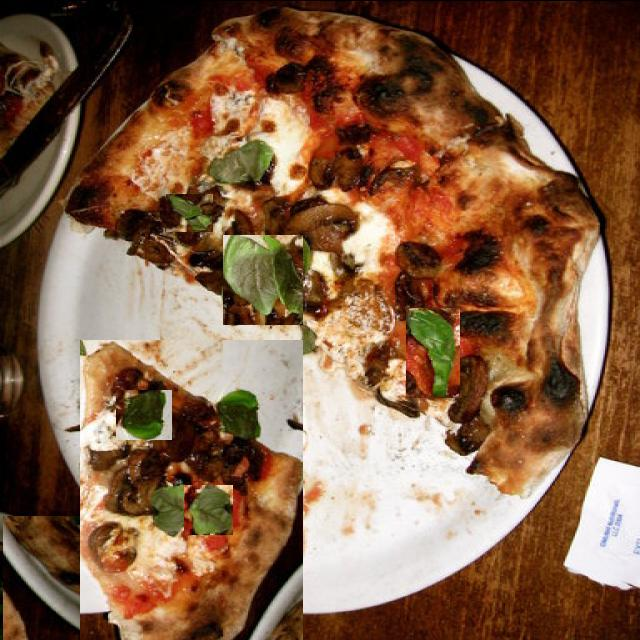basil: (223, 234, 303, 324), (406, 307, 460, 397), (116, 389, 172, 439), (203, 139, 272, 179), (184, 484, 233, 534), (166, 193, 213, 231), (1, 601, 42, 640)
pizza: (61, 4, 603, 493), (80, 339, 303, 640), (3, 515, 113, 640), (0, 4, 54, 197)
